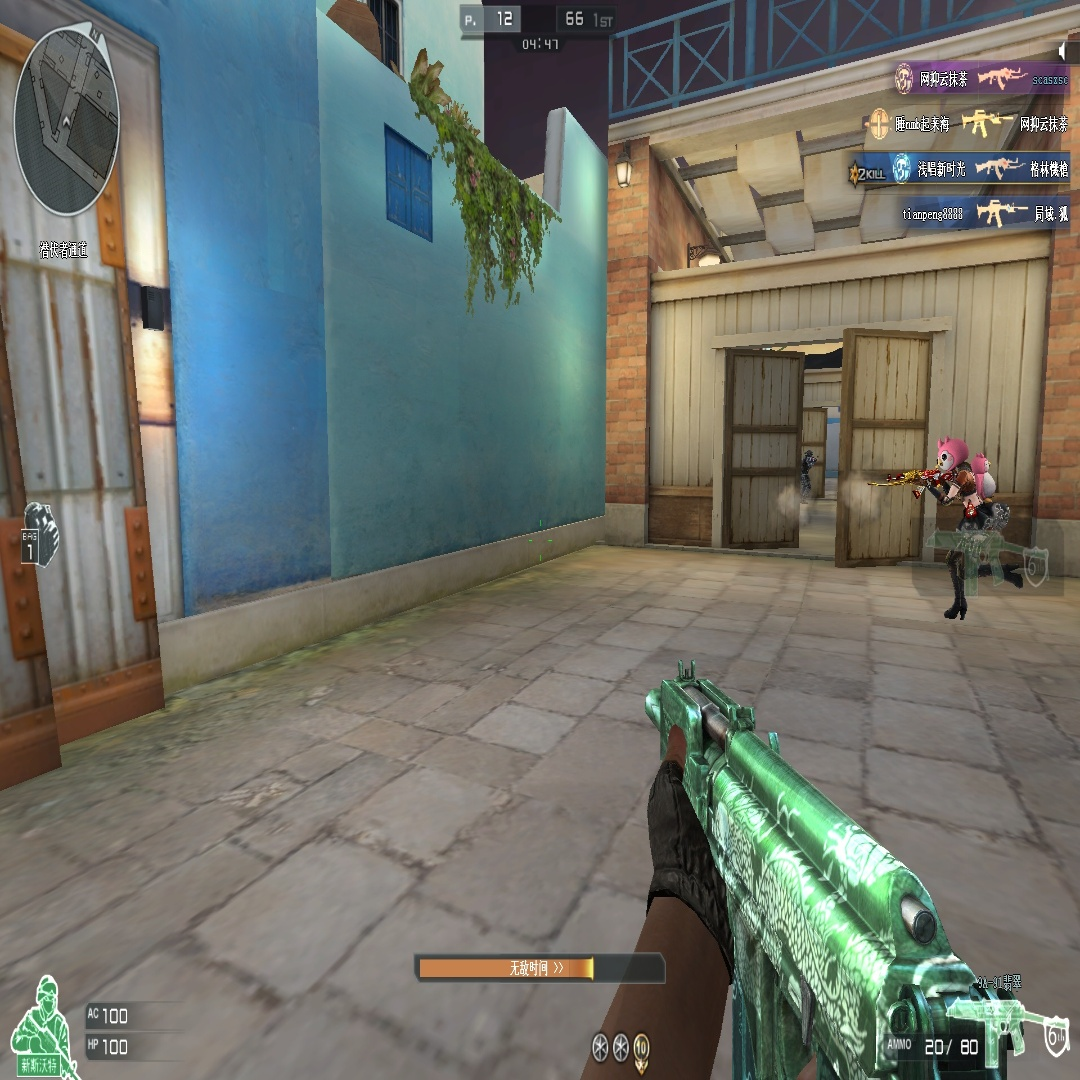head: (938, 439, 968, 471)
p: (867, 434, 1011, 621)
